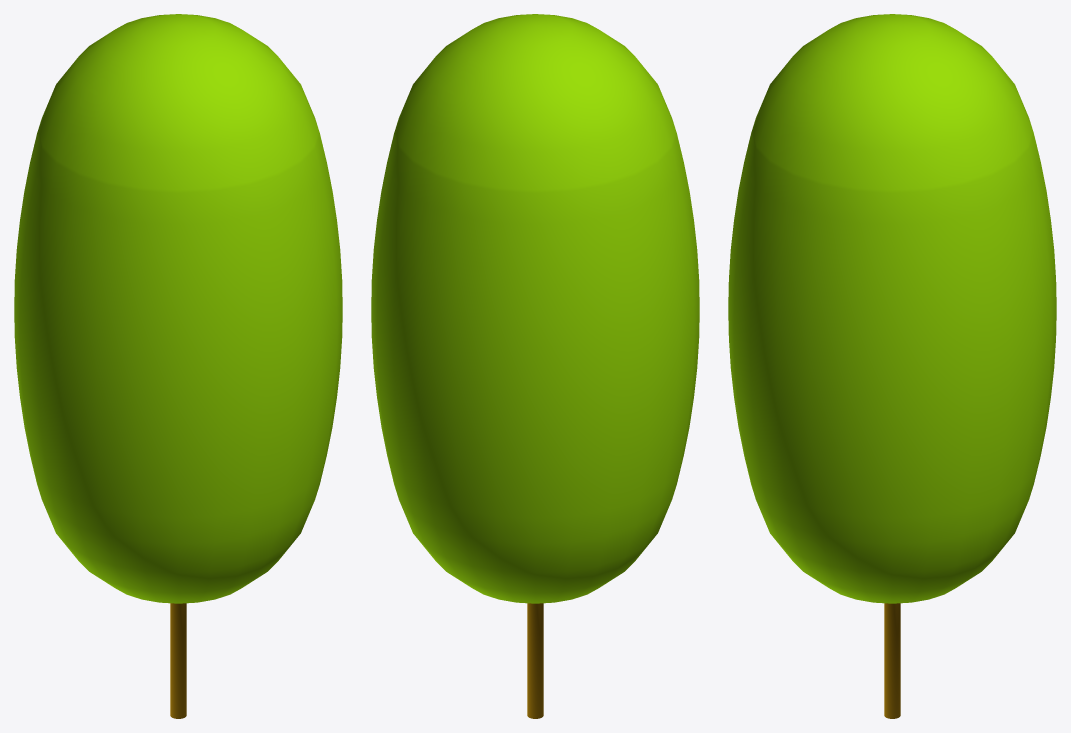
The picture shows the model from 3 angles, left to right: view 1: azimuth 30°, elevation 25°; view 2: azimuth 150°, elevation 25°; view 3: azimuth 270°, elevation 25°; orthographic projection.
Visible parts, largest first — view 1: LP7m; view 2: LP7m; view 3: LP7m.
Boxes of the visible parts, <box> form: LP7m: <box>14,14,342,718</box>; LP7m: <box>371,14,699,718</box>; LP7m: <box>728,14,1056,718</box>.
Size of the model in its own units: 3.02 by 7 by 3.02.
